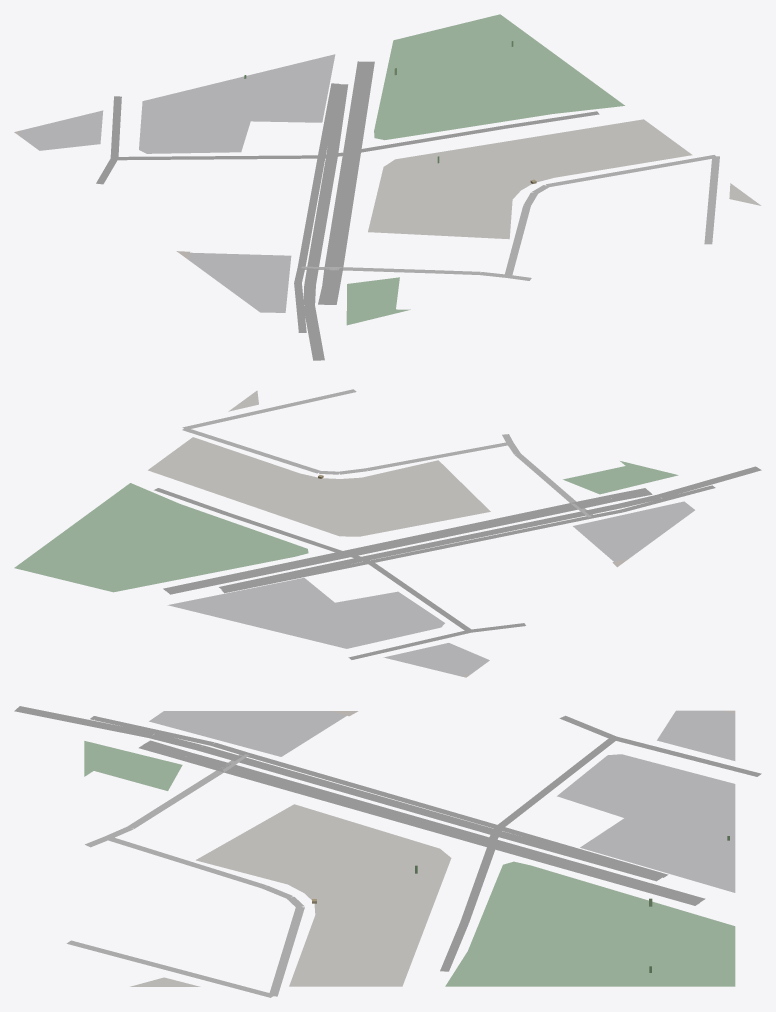
3 renders of one model, top to bottom at view 1: azimuth 30°, elevation 25°; view 2: azimuth 150°, elevation 25°; view 3: azimuth 270°, elevation 25°, orthographic. The views are drawn at different scales.
Bounding box in the file's own units: 530 × 7.36 × 574.
